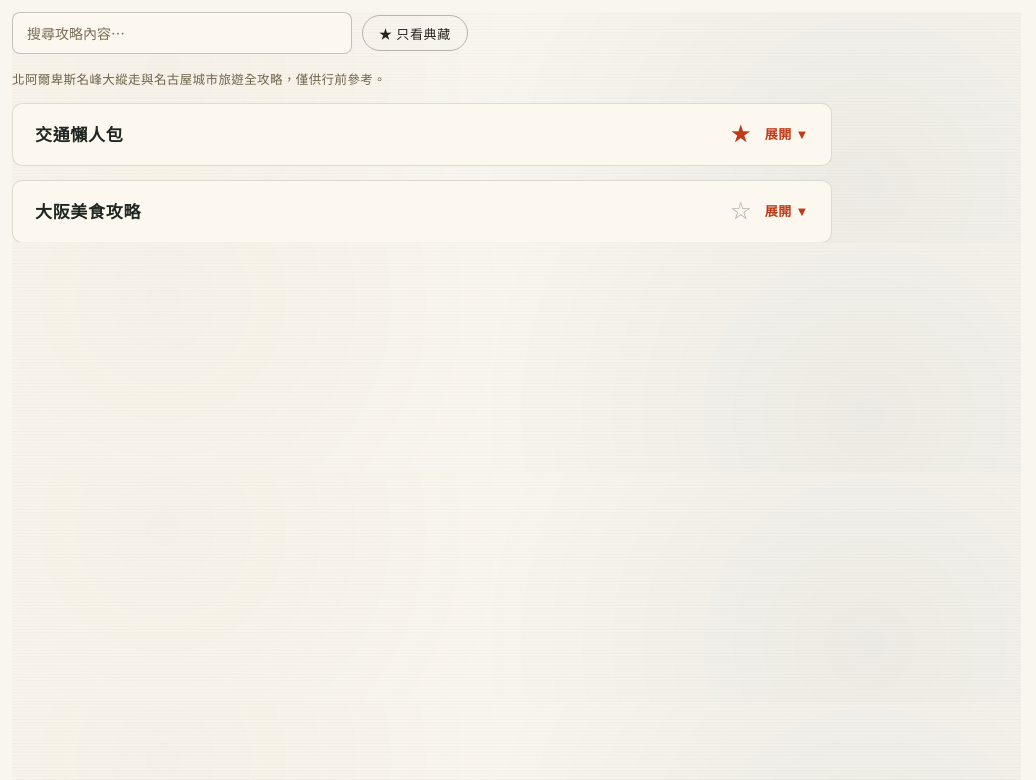
Test case: Guides 典藏 › 只看典藏：僅顯示已典藏攻略
The width and height of the screenshot is (1036, 780).
Click the button "★ 只看典藏" at (415, 33), box 362,15 -> 468,51
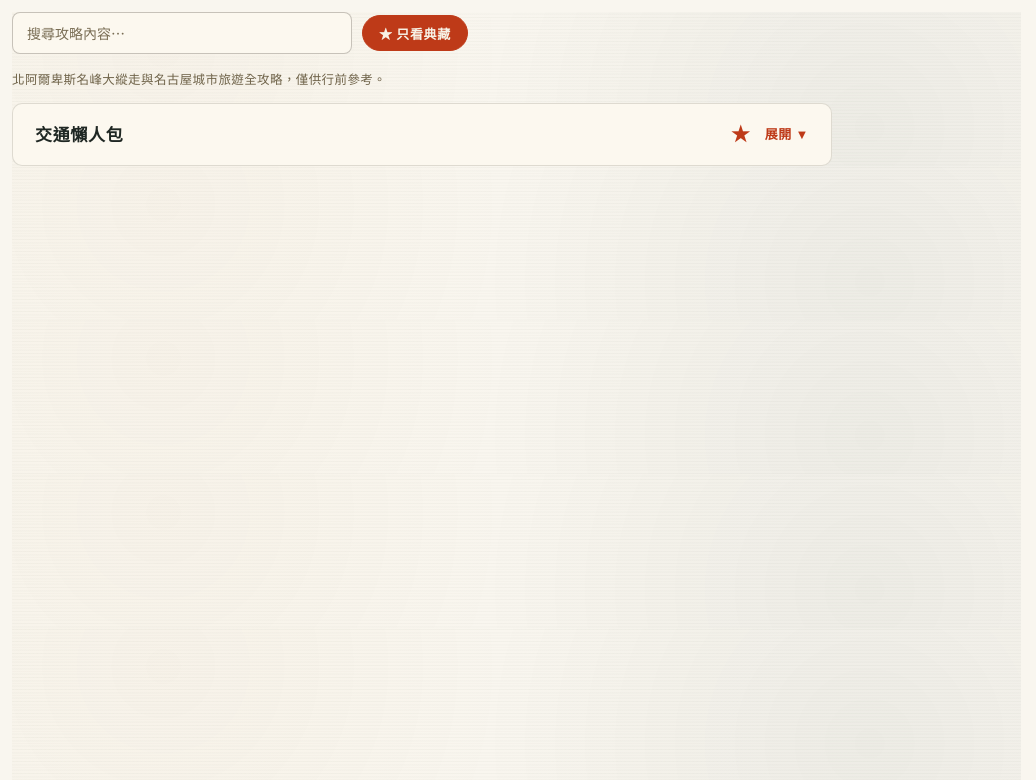
Check: the text "交通懶人包" is shown, box 35,121 -> 123,146
Check: the text "大阪美食攻略" is gone
